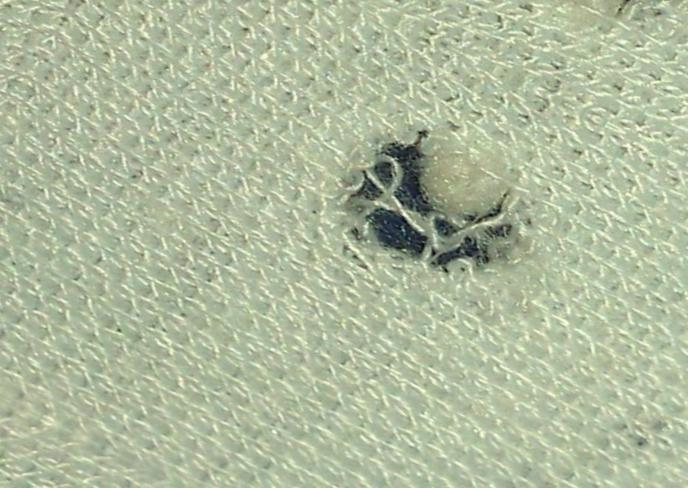hole: (384, 107, 533, 234)
